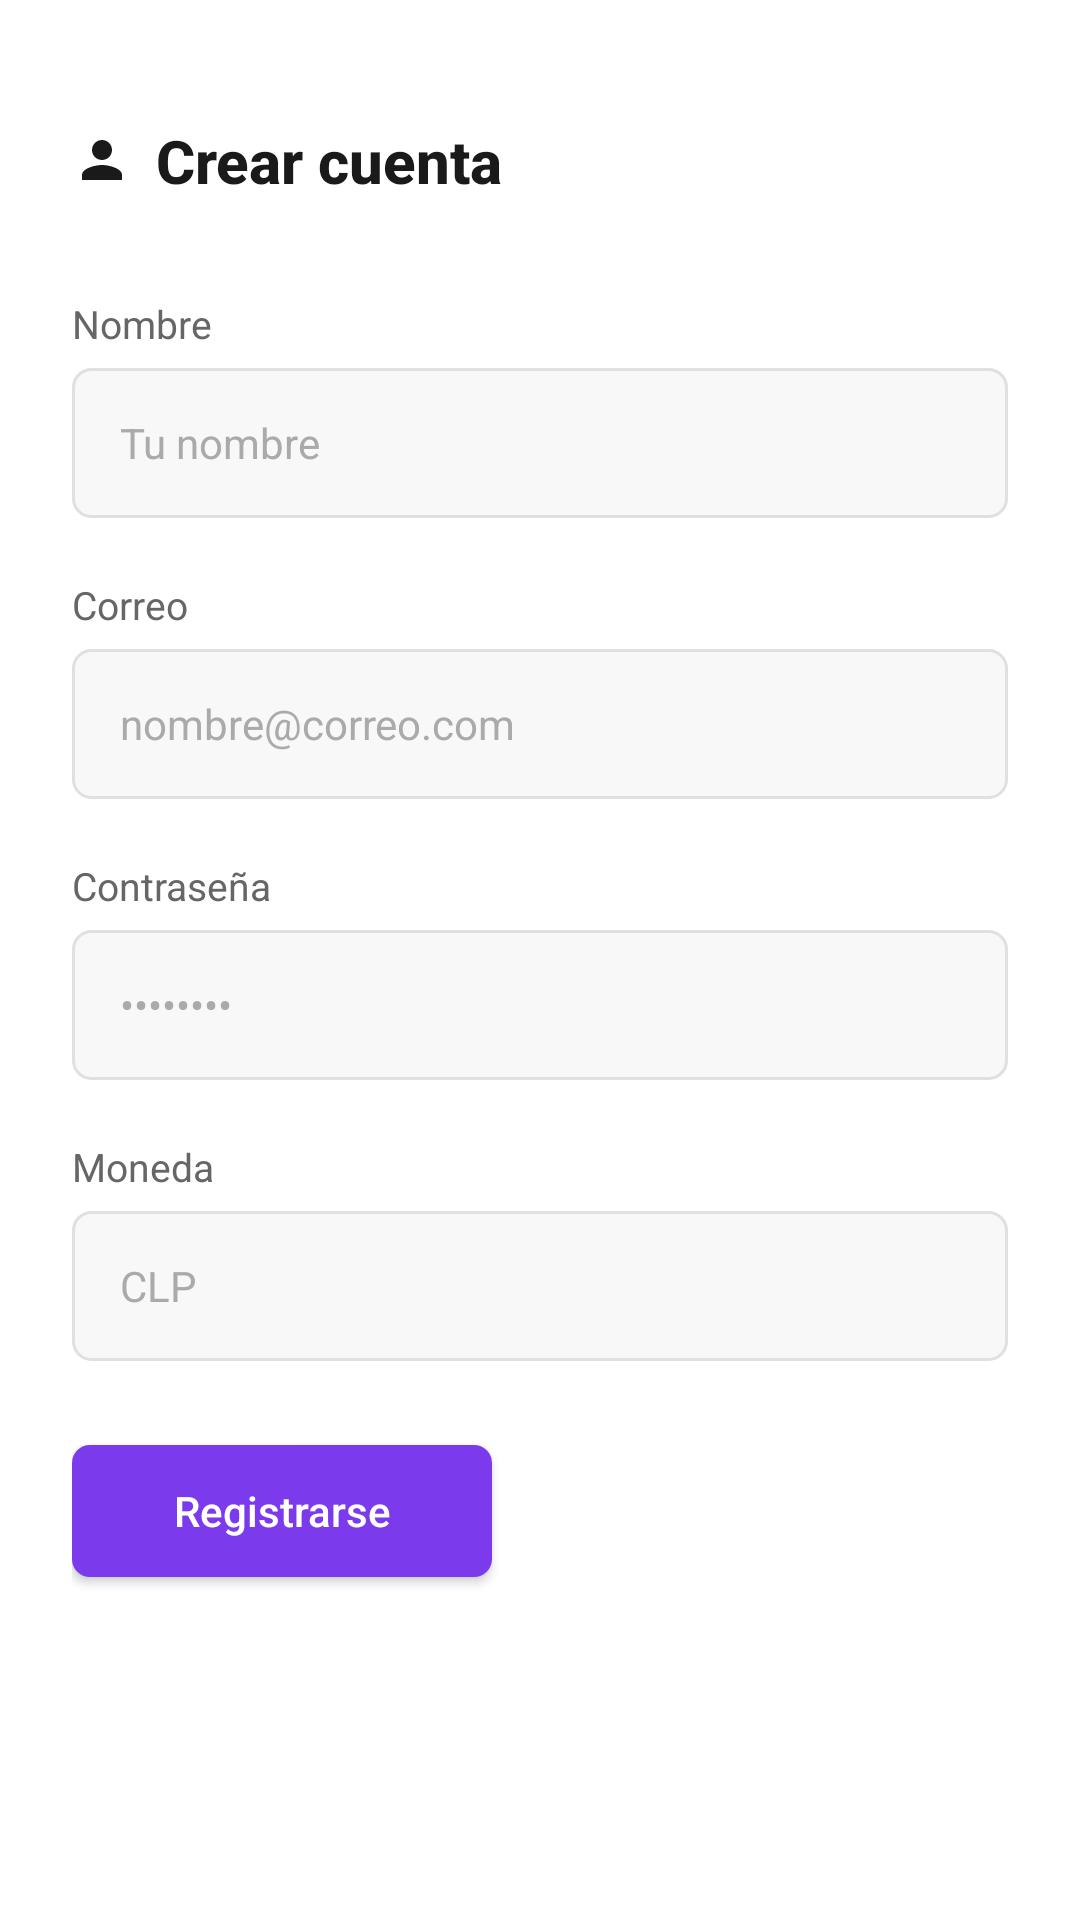

Screen size 1080px x 1920px. Icon name, then its box in pixels as (x1, y1, x2, y2):
person: (82, 140, 122, 180)
